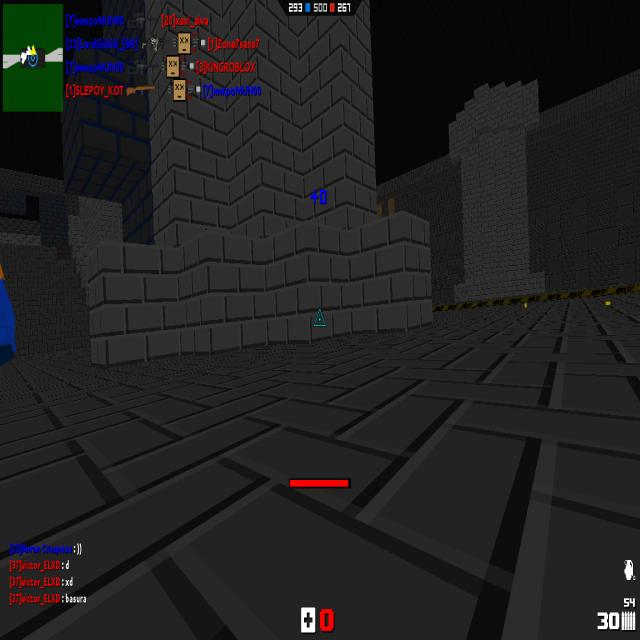enemy: (0, 246, 21, 368)
